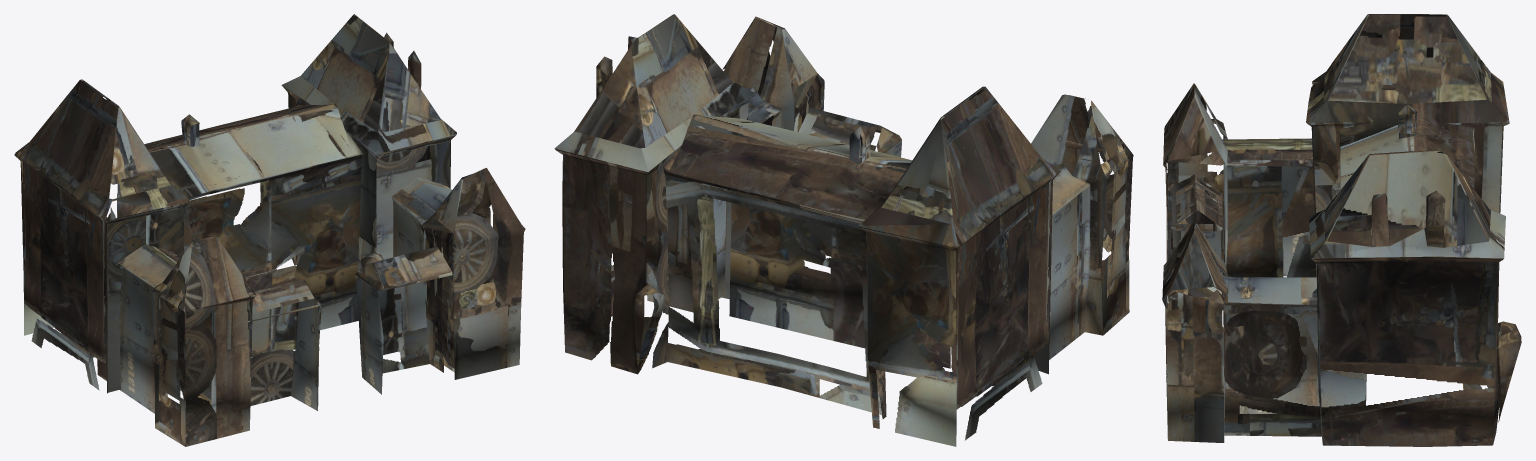
The model's file is barracks.dae.
The picture shows the model from 3 angles, left to right: view 1: azimuth 30°, elevation 25°; view 2: azimuth 150°, elevation 25°; view 3: azimuth 270°, elevation 25°; orthographic projection. The views are drawn at different scales.
Visible parts, largest first — view 1: base; view 2: base; view 3: base.
Part boxes in pixels (x1,y1,x2,y2): base: (14, 14, 525, 446); base: (554, 14, 1133, 446); base: (1162, 14, 1521, 446).
Size of the model in its own units: 137 by 116 by 98.17.
1 material, 1 textured.
